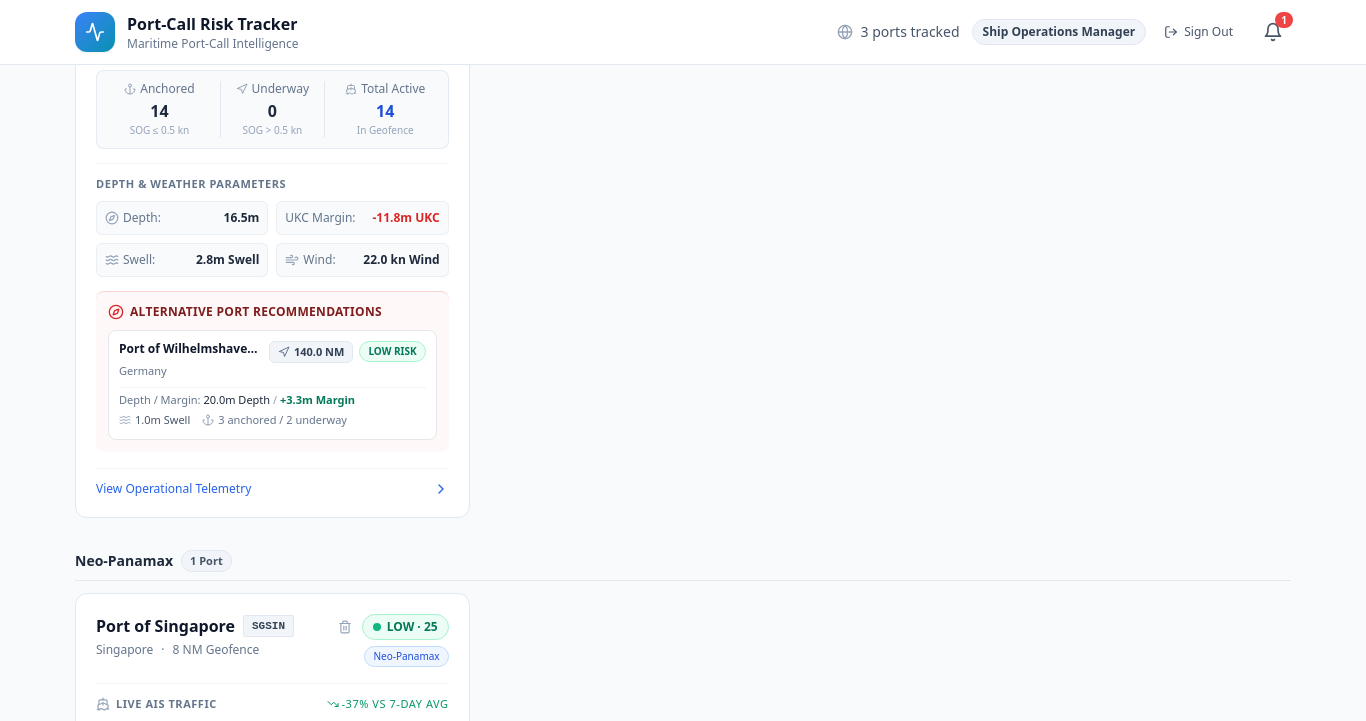
Test: Frontend End-to-End User Journey (Issue 24) › clicking an alternative port recommendation card brings up its full summary
The width and height of the screenshot is (1366, 721).
(page scrolled)
Click on the alternative candidate card
Click the element with test id "alternative-candidate-port-wilhelmshaven": point(272, 384) 108,330 -> 437,440
(page scrolled)
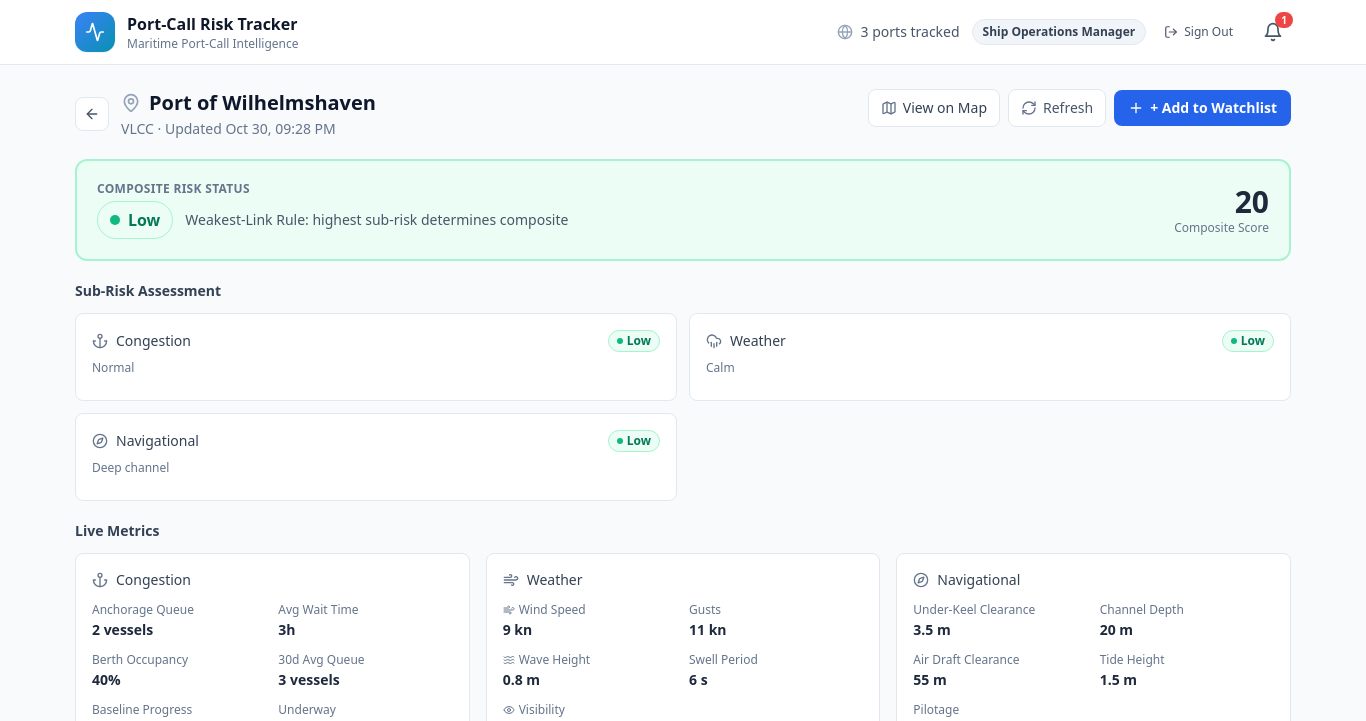
expect the text "Weakest-Link Rule: highest sub-risk determines composite" is shown: met, box 185,210 -> 568,230
expect the heading "Sub-Risk Assessment" is shown: met, box 75,281 -> 221,300
expect the heading "Live Metrics" is shown: met, box 75,521 -> 159,540
Click "+ Add to Watchlist" on the details page
Click the button with test id "detail-add-port-button": point(1203, 108) 1114,90 -> 1291,126
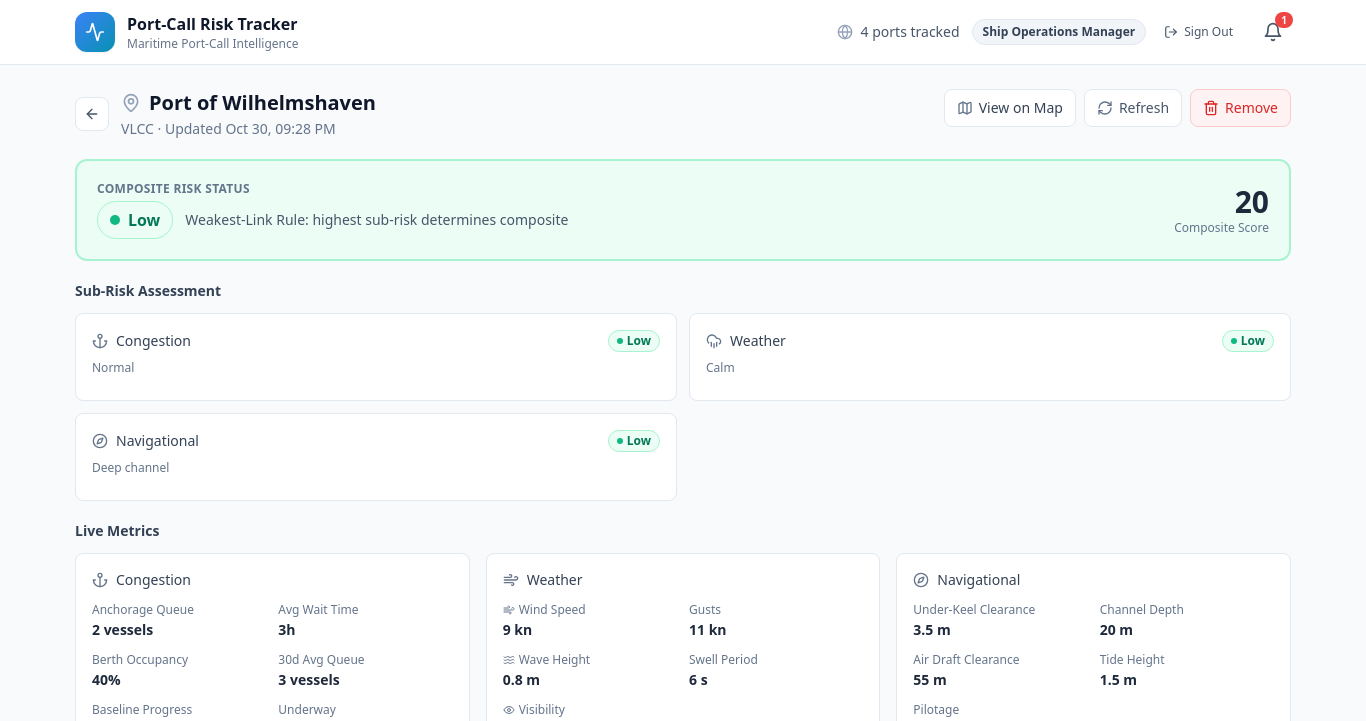
expect the button with test id "detail-view-map-button" is shown: met
expect the button with test id "detail-remove-port-button" is shown: met, box 1190,89 -> 1291,127
Click the button with test id "detail-view-map-button": point(1010, 108) 944,89 -> 1076,127
(page scrolled)
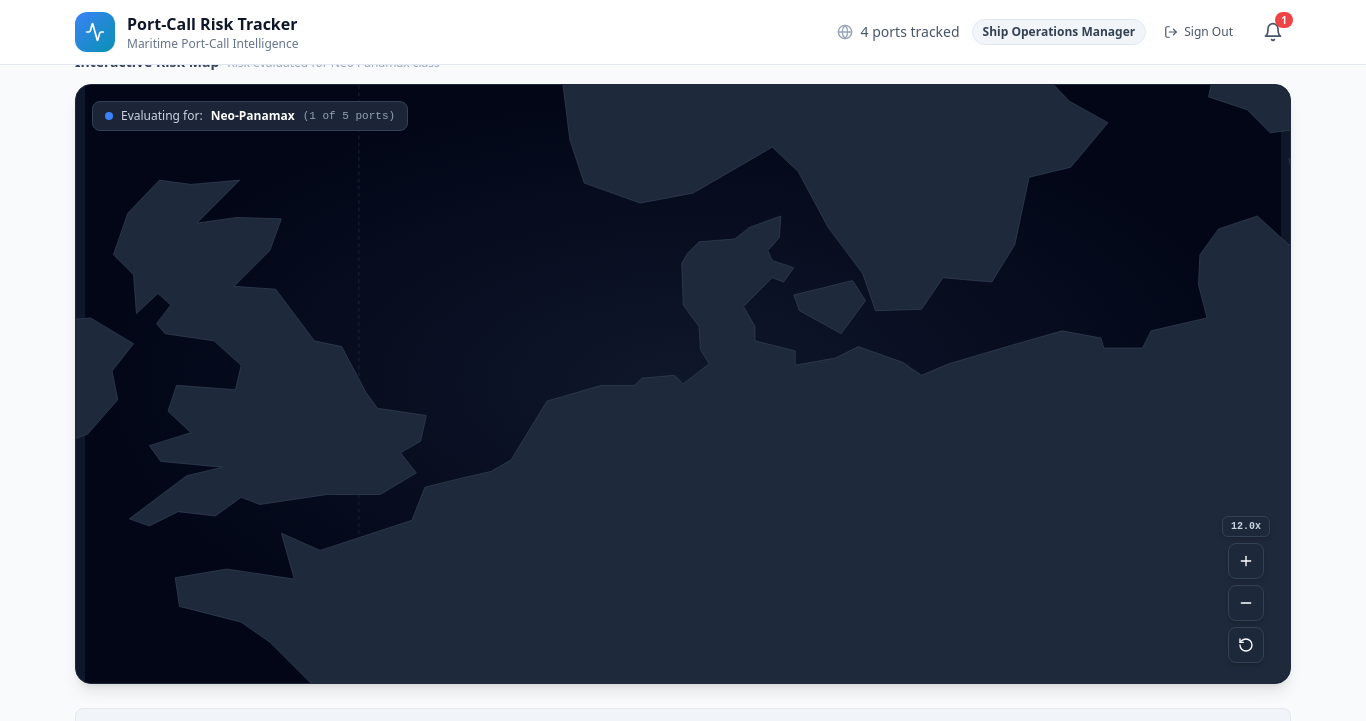
expect the element with test id "interactive-map-container" is shown: met
